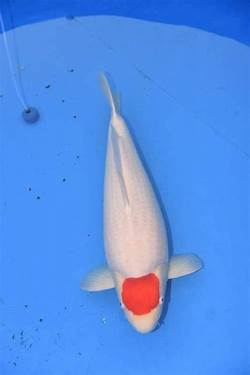sun: (78, 72, 204, 335)
